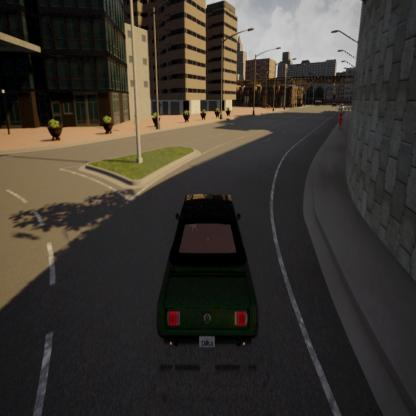Cars: (148, 185, 270, 356)
Pedestrian: (336, 106, 346, 133)
